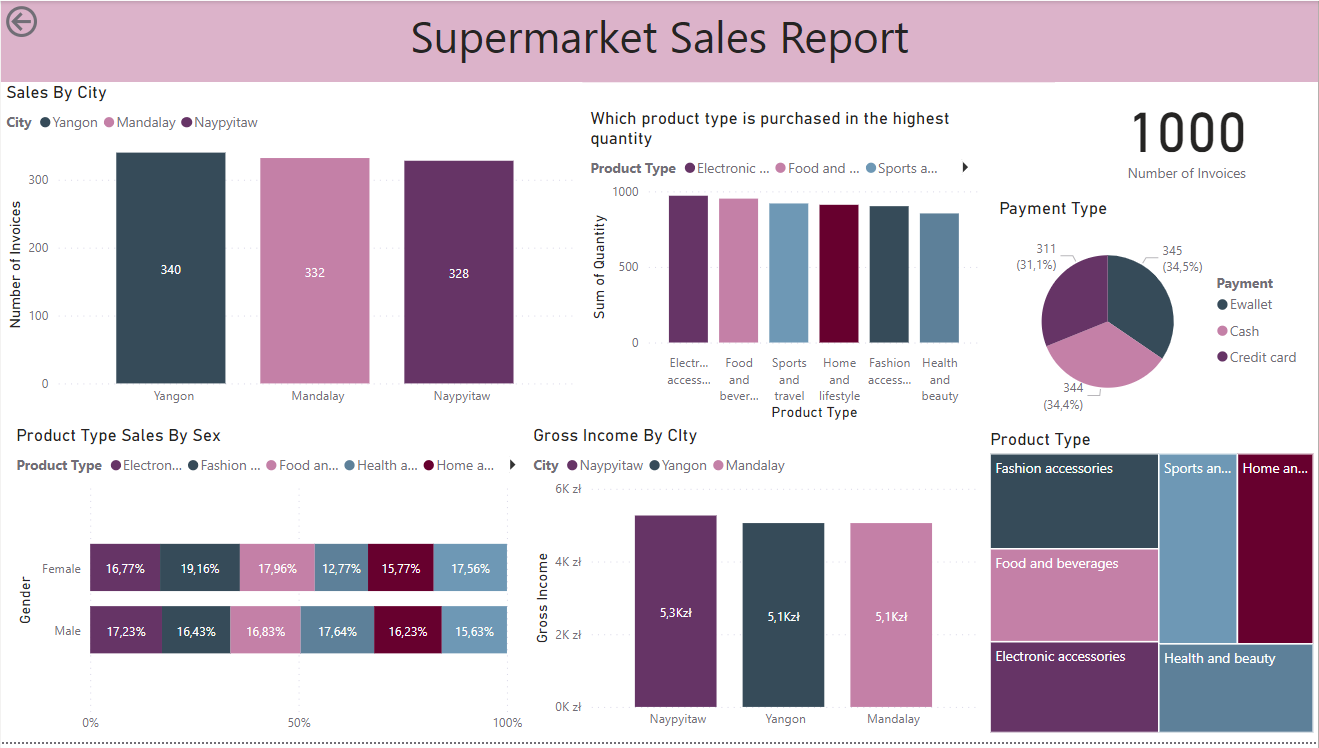

The page's visual inventory and layout, read from the dashboard file:
{"tool":"powerbi","page":{"name":"Page 1","canvas":[1280,720],"ordinal":0},"visuals":[{"type":"textbox","box":[0,0,1280,78.7],"z":0},{"type":"card","fields":{"Values":["CountNonNull(supermarket_sales - Sheet1 (2).Invoice ID)"]},"box":[1024.4,78.7,255.6,102.1],"z":1000},{"type":"columnChart","title":"Sales By City","fields":{"Category":["supermarket_sales - Sheet1 (2).City"],"Y":["CountNonNull(supermarket_sales - Sheet1 (2).Invoice ID)"],"Series":["supermarket_sales - Sheet1 (2).City"]},"box":[0,78.7,564.7,322.7],"z":2000},{"type":"hundredPercentStackedBarChart","title":"Product Type Sales By Sex","fields":{"Category":["supermarket_sales - Sheet1 (2).Gender"],"Series":["supermarket_sales - Sheet1 (2).Product line"],"Y":["CountNonNull(supermarket_sales - Sheet1 (2).Product line)"]},"box":[9.7,412.1,502.5,308.1],"z":3000},{"type":"pieChart","title":"Payment Type","fields":{"Category":["supermarket_sales - Sheet1 (2).Payment"],"Y":["CountNonNull(supermarket_sales - Sheet1 (2).Payment)"]},"box":[965.1,191.5,308.1,220.6],"z":4000},{"type":"columnChart","title":"Gross Income By CIty","fields":{"Category":["supermarket_sales - Sheet1 (2).City"],"Y":["Sum(supermarket_sales - Sheet1 (2).gross income)"],"Series":["supermarket_sales - Sheet1 (2).City"]},"box":[512.2,412.1,444.2,304.2],"z":5000},{"type":"columnChart","title":"Which product type is purchased in the highest quantity","fields":{"Category":["supermarket_sales - Sheet1 (2).Product line"],"Y":["Sum(supermarket_sales - Sheet1 (2).Quantity)"],"Series":["supermarket_sales - Sheet1 (2).Product line"]},"box":[567.6,104,388.8,308.1],"z":6000},{"type":"actionButton","box":[0,0,100,40],"z":6002},{"type":"treemap","title":"Product Type","fields":{"Group":["supermarket_sales - Sheet1 (2).Product line"],"Values":["CountNonNull(supermarket_sales - Sheet1 (2).Product line)"]},"box":[956.4,416,323.6,300.3],"z":6003}]}

Visuals, with their boxes in screenshot pixels (x1, y1, x2, y2), scaled from the page's 1280x720 canvas onto the 1319x748 screenshot:
textbox: crop(0, 0, 1318, 82)
card - CountNonNull(supermarket_sales - Sheet1 (2).Invoice ID): crop(1056, 82, 1318, 188)
"Sales By City" columnChart: crop(0, 82, 582, 417)
"Product Type Sales By Sex" hundredPercentStackedBarChart: crop(10, 428, 528, 747)
"Payment Type" pieChart: crop(995, 199, 1312, 428)
"Gross Income By CIty" columnChart: crop(528, 428, 986, 744)
"Which product type is purchased in the highest quantity" columnChart: crop(585, 108, 986, 428)
actionButton: crop(0, 0, 103, 42)
"Product Type" treemap: crop(986, 432, 1318, 744)
